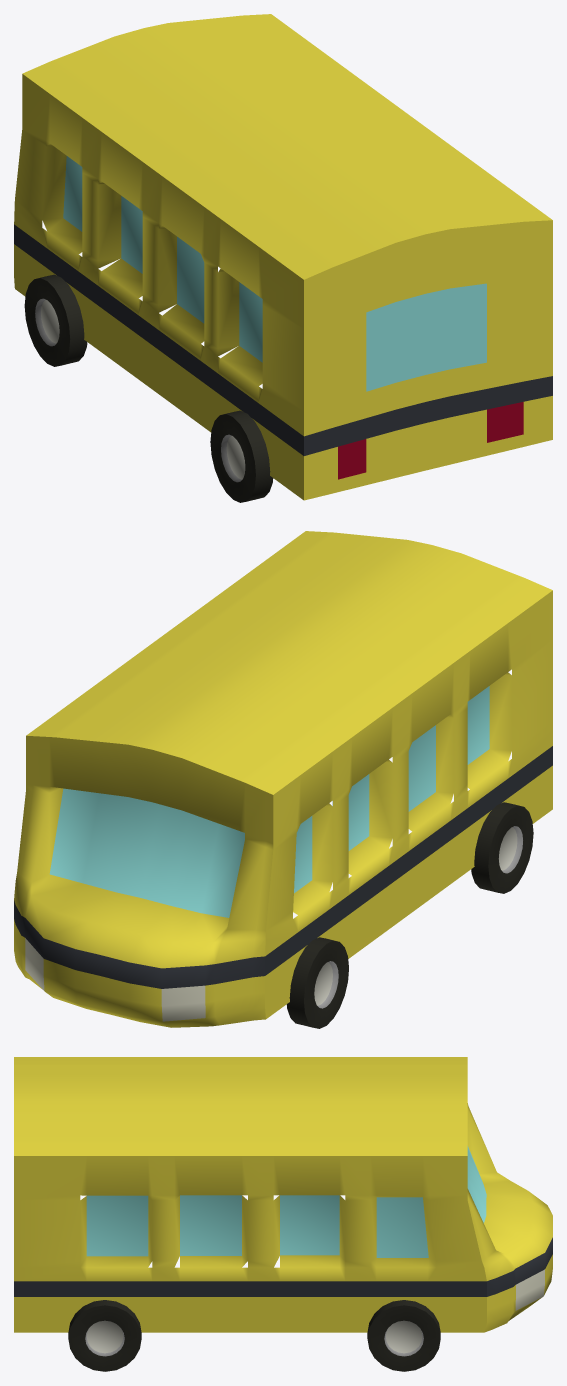
Rendered from Bus.gltf.
The picture shows the model from 3 angles, top to bottom: view 1: azimuth 30°, elevation 25°; view 2: azimuth 150°, elevation 25°; view 3: azimuth 270°, elevation 25°; orthographic projection. The views are drawn at different scales.
Visible parts, largest first — view 1: pCube1, pCylinder4, pCylinder3; view 2: pCube1, pCylinder3, pCylinder4; view 3: pCube1, pCylinder2, pCylinder1.
Boxes of the visible parts, bbox=[...] form: pCube1: bbox=[14, 14, 552, 500]; pCylinder4: bbox=[24, 274, 87, 366]; pCylinder3: bbox=[210, 410, 273, 502]; pCube1: bbox=[14, 531, 552, 1027]; pCylinder3: bbox=[471, 802, 533, 893]; pCylinder4: bbox=[286, 937, 348, 1028]; pCube1: bbox=[14, 1057, 552, 1332]; pCylinder2: bbox=[68, 1300, 141, 1371]; pCylinder1: bbox=[367, 1300, 440, 1371].
Size of the model in its own units: 0.0645 by 0.0619 by 0.1349.
